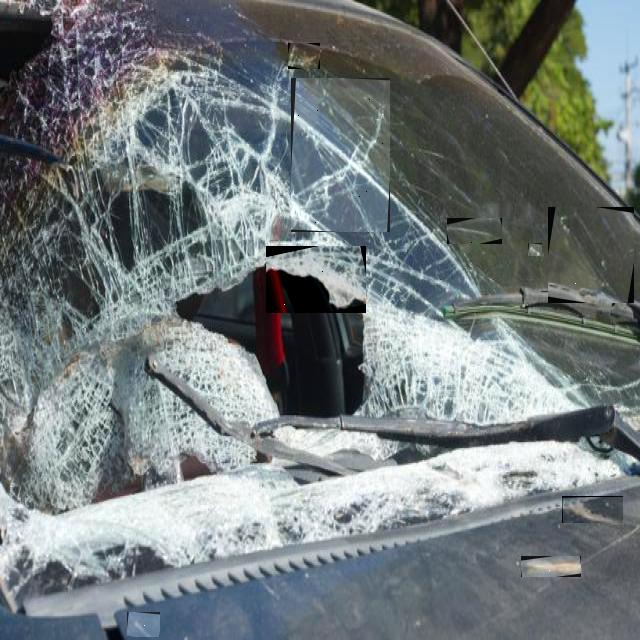Dent: (291, 78, 390, 232), (548, 207, 634, 303), (266, 246, 366, 313), (562, 496, 623, 523), (447, 218, 502, 244), (521, 556, 581, 577), (288, 43, 320, 69), (127, 612, 160, 637), (528, 243, 542, 256), (554, 224, 566, 238)
